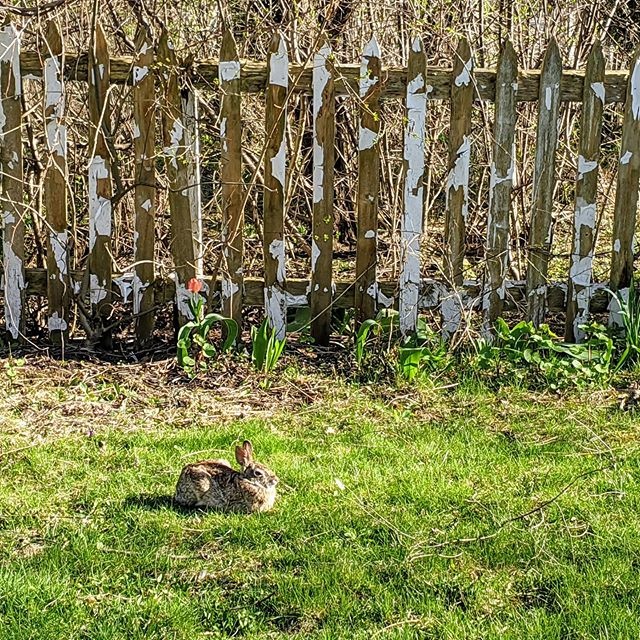animal: (161, 442, 280, 515)
grass: (1, 358, 640, 640)
